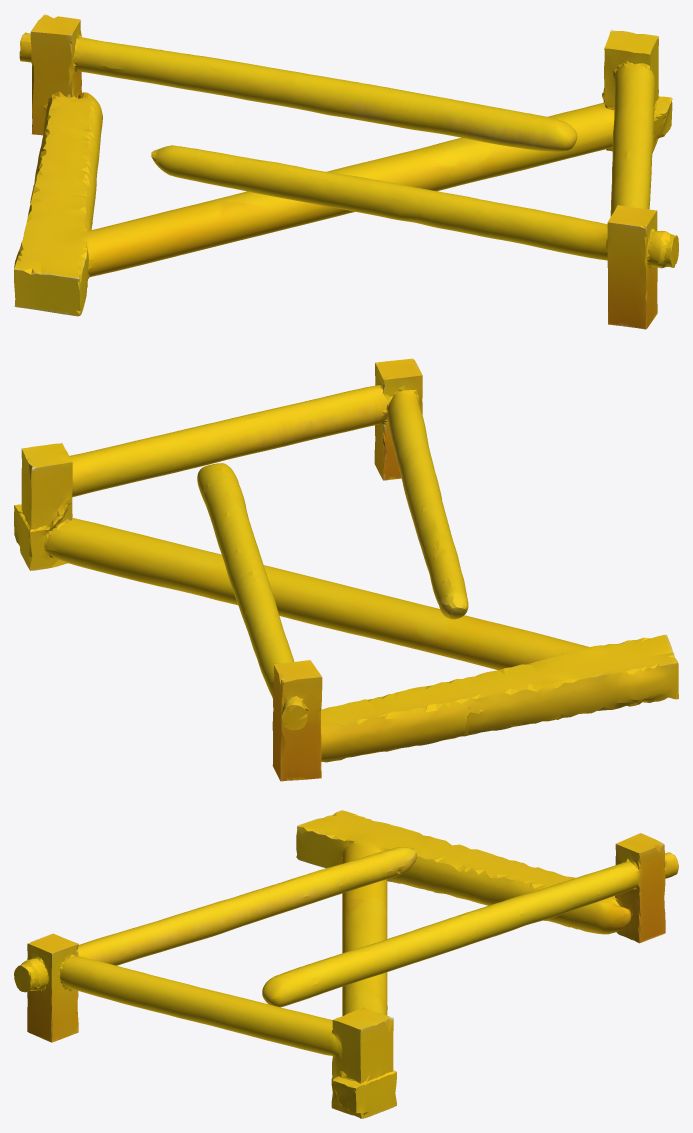
File: football_goalpost.glb
3 views of the same model, one above another, from view 1: azimuth 30°, elevation 25°; view 2: azimuth 150°, elevation 25°; view 3: azimuth 270°, elevation 25° (orthographic). The views are drawn at different scales.
Parts seen in each view (by area): view 1: Football_Goalpost; view 2: Football_Goalpost; view 3: Football_Goalpost.
Boxes of the visible parts, x1,y1,x2,y2 form: Football_Goalpost: (14, 14, 678, 329); Football_Goalpost: (14, 358, 678, 781); Football_Goalpost: (14, 810, 678, 1118).
Bounding box in the file's own units: 1.89 × 0.2814 × 1.89.
Materials: 1 (1 with a texture image).
